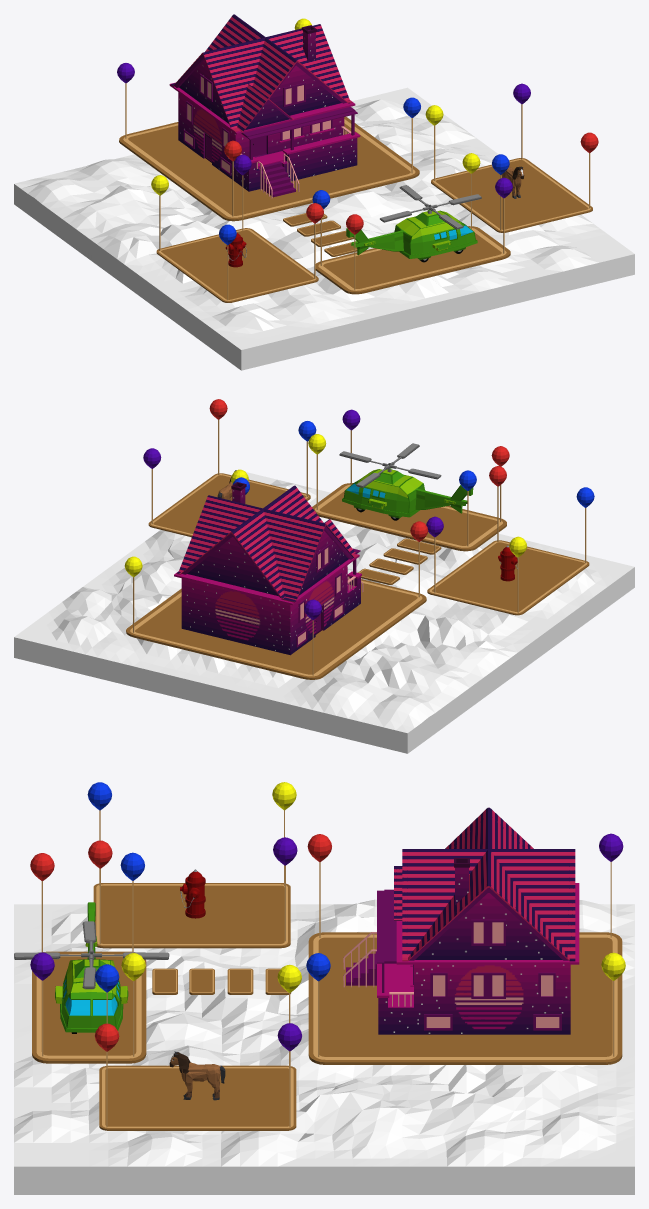
3 renders of one model, top to bottom at view 1: azimuth 30°, elevation 25°; view 2: azimuth 150°, elevation 25°; view 3: azimuth 270°, elevation 25°, orthographic. The views are drawn at different scales.
Parts seen in each view (by area): view 1: Cube.013, Cube.156, VEHICLES_HELICOPTER; view 2: Cube.013, Cube.156, VEHICLES_HELICOPTER, OBJRANDOM_FIRE_HYDRANT; view 3: Cube.013, Cube.156, VEHICLES_HELICOPTER, ANIMAL_CABALLO, OBJRANDOM_FIRE_HYDRANT.
Part boxes in pixels (left/top/right/bottom): Cube.013: left=14, top=18, right=634, bottom=370; Cube.156: left=169, top=14, right=360, bottom=198; VEHICLES_HELICOPTER: left=346, top=185, right=481, bottom=262; Cube.013: left=14, top=399, right=634, bottom=753; Cube.156: left=174, top=482, right=363, bottom=655; VEHICLES_HELICOPTER: left=339, top=443, right=473, bottom=520; OBJRANDOM_FIRE_HYDRANT: left=498, top=545, right=517, bottom=581; Cube.013: left=14, top=782, right=634, bottom=1194; Cube.156: left=343, top=807, right=579, bottom=1034; VEHICLES_HELICOPTER: left=14, top=902, right=169, bottom=1033; ANIMAL_CABALLO: left=169, top=1051, right=225, bottom=1100; OBJRANDOM_FIRE_HYDRANT: left=180, top=869, right=205, bottom=918.
Size of the model in its own units: 4000 by 1691 by 4001.
Materials: 34 (3 with a texture image).
